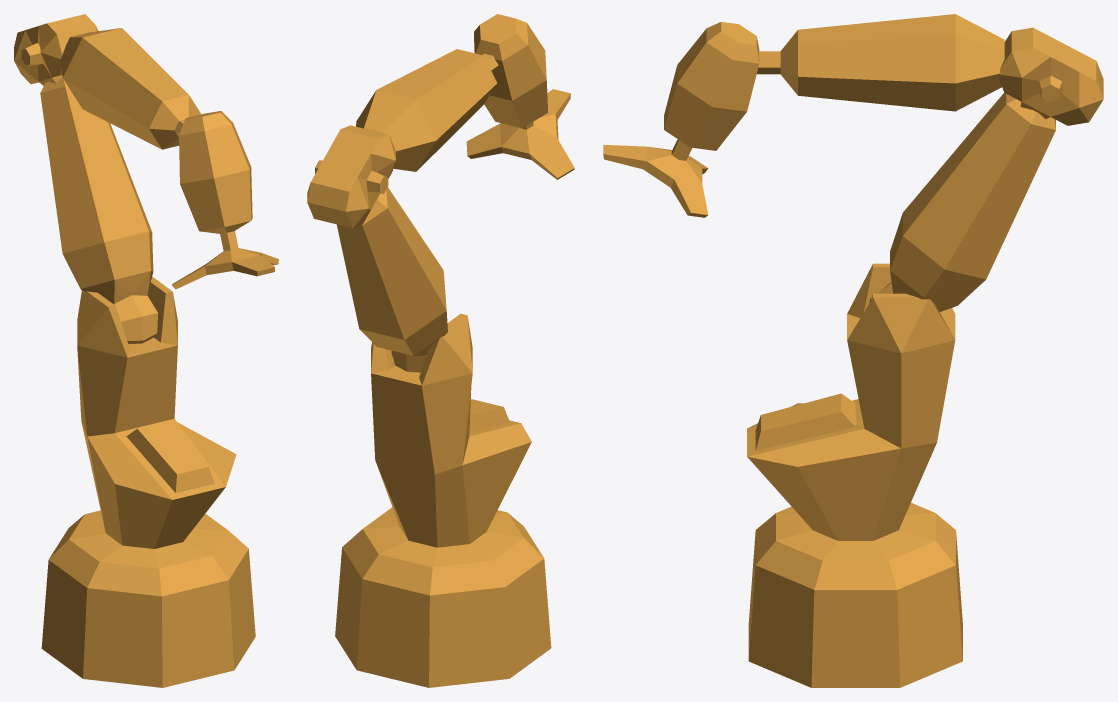
The model's file is robotic-arm.fbx.
3 renders of one model, left to right at view 1: azimuth 30°, elevation 25°; view 2: azimuth 150°, elevation 25°; view 3: azimuth 270°, elevation 25°, orthographic. The views are drawn at different scales.
Parts seen in each view (by area): view 1: robotic-arm-base, robotic-arm-first, robotic-arm-third, robotic-arm-hand, robotic-arm-second; view 2: robotic-arm-base, robotic-arm-first, robotic-arm-hand, robotic-arm-third, robotic-arm-second; view 3: robotic-arm-base, robotic-arm-first, robotic-arm-third, robotic-arm-hand, robotic-arm-second.
Part boxes in pixels (x1,y1,x2,y2): robotic-arm-base: (41,276,255,687); robotic-arm-first: (40,78,157,343); robotic-arm-third: (61,28,200,149); robotic-arm-hand: (172,111,278,289); robotic-arm-second: (14,14,98,85); robotic-arm-base: (335,313,551,687); robotic-arm-first: (336,187,447,372); robotic-arm-hand: (466,14,574,179); robotic-arm-third: (356,49,498,171); robotic-arm-second: (307,125,395,228); robotic-arm-base: (747,263,962,687); robotic-arm-first: (869,93,1055,311); robotic-arm-third: (757,14,1004,111); robotic-arm-hand: (603,22,759,217); robotic-arm-second: (998,27,1103,125).
Bounding box in the file's own units: 0.6324 × 2.01 × 1.48.
